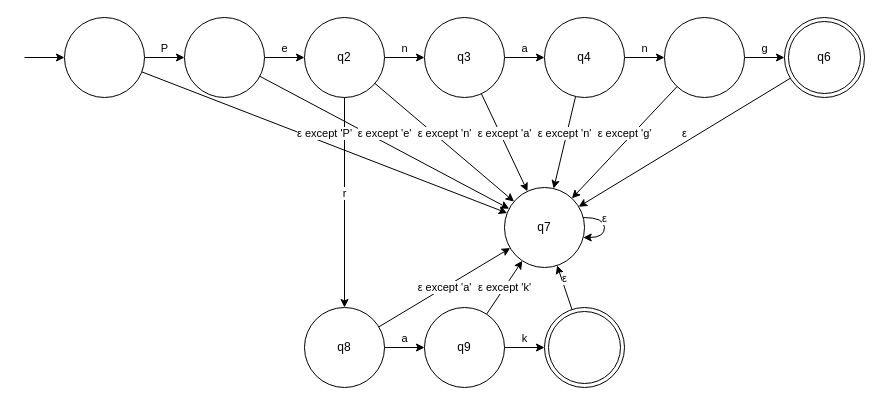
Some shapes in this 882 by 405 pixel diagram are drawn without their labels. Each missing label, with the centre of its shape:
q0: point 104,57
q1: point 224,57
q10: point 584,347
q5: point 704,57
